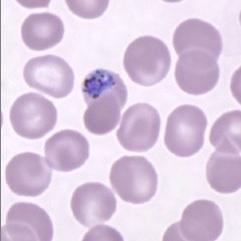Infected: (82, 69, 129, 111)
Uninfected: (123, 35, 172, 86), (172, 18, 222, 67), (110, 156, 157, 205), (164, 105, 208, 157), (115, 104, 160, 153), (25, 55, 74, 99), (9, 94, 57, 138), (5, 152, 51, 197), (205, 138, 241, 194), (175, 50, 219, 94), (72, 183, 117, 226), (44, 129, 89, 172), (6, 201, 53, 241), (180, 199, 224, 241), (20, 12, 63, 51), (84, 92, 120, 134), (209, 110, 241, 156)
